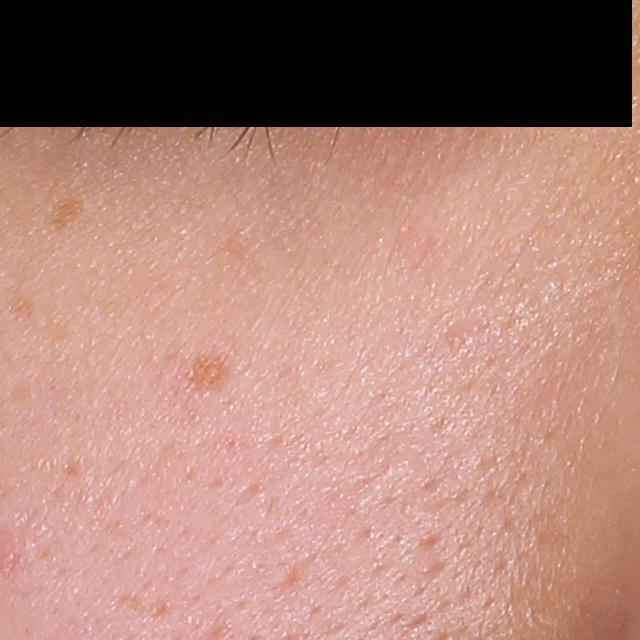melasma: (178, 345, 241, 406), (46, 195, 91, 234), (6, 293, 39, 318)
